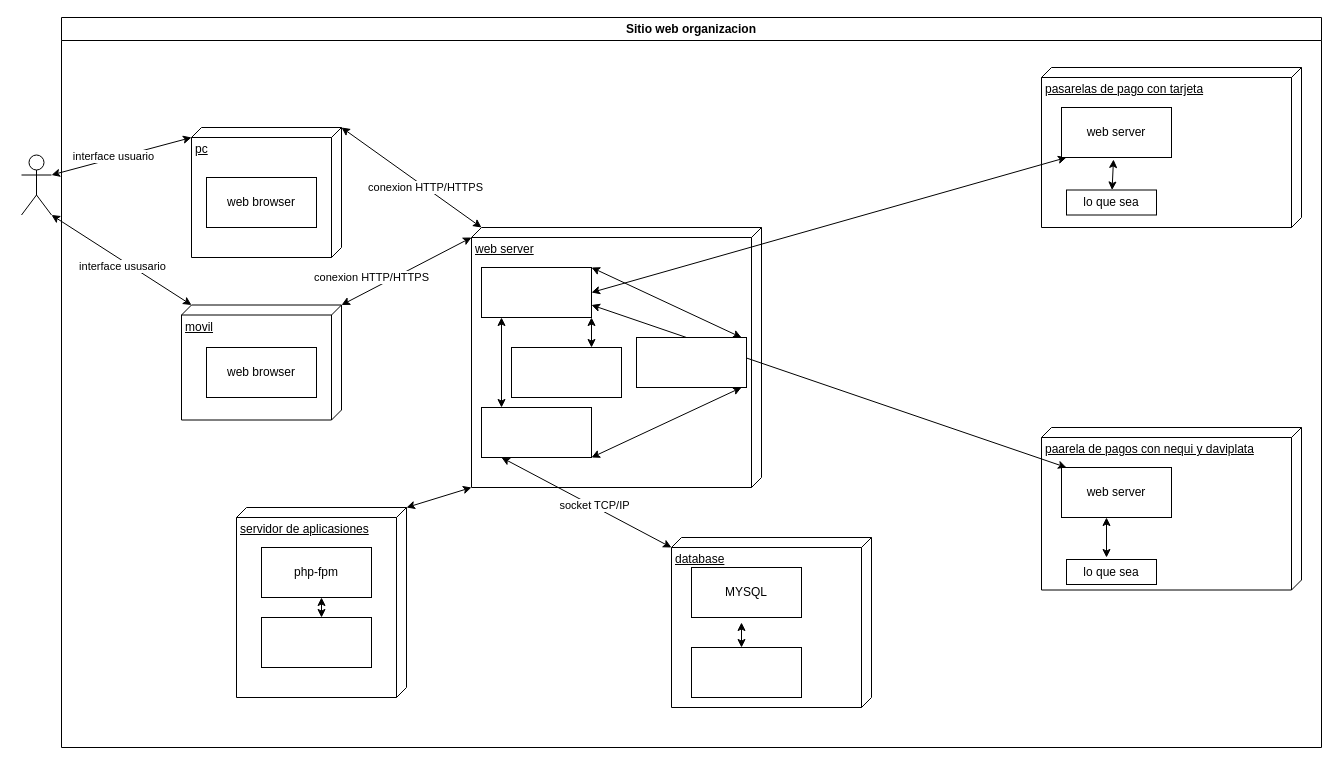
Some shapes in this 1339 by 765 pixel diagram are drawn without their labels. Here are the shapes that lost their labels. From the top down, the centre of each, then its label:
[36,184]: usuario
[536,292]: HTTP server
[566,372]: MTA
[691,362]: LOG
[536,432]: database interface
[316,642]: mod_php
[746,672]: POSTGRESQL
